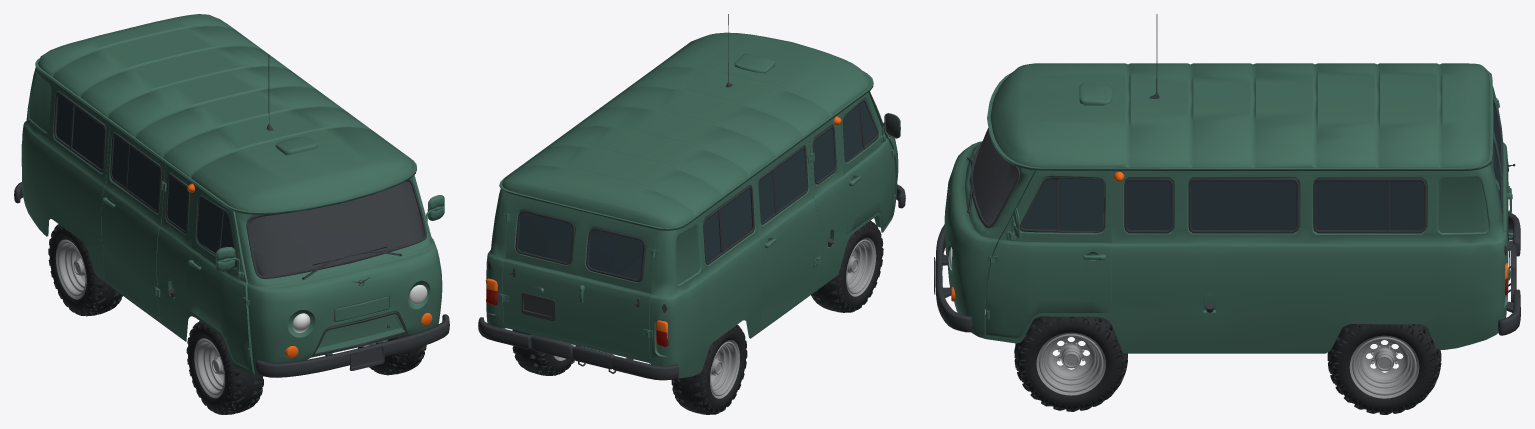
File: uaz3962.glb
The picture shows the model from 3 angles, left to right: view 1: azimuth 30°, elevation 25°; view 2: azimuth 150°, elevation 25°; view 3: azimuth 270°, elevation 25°; orthographic projection. The views are drawn at different scales.
Visible parts, largest first — view 1: chassisbody, chassis_trim, glass, wheel_fr, wheel_rr, wheel_fl, headlights; view 2: chassisbody, glass, chassis_trim, wheel_rr, wheel_fr, wheel_rl; view 3: chassisbody, glass, chassis_trim, wheel_fl, wheel_rl.
Part boxes in pixels (x1,y1,x2,y2): chassisbody: (22,14,444,376); chassis_trim: (14,54,449,377); glass: (56,95,235,264); wheel_fr: (186,321,263,414); wheel_rr: (48,224,122,316); wheel_fl: (358,334,426,375); headlights: (292,285,427,332); chassisbody: (486,32,900,378); glass: (518,102,877,279); chassis_trim: (478,14,905,380); wheel_rr: (671,324,747,414); wheel_fr: (811,220,883,312); wheel_rl: (512,330,576,375); chassisbody: (944,63,1513,353); glass: (1022,105,1500,231); chassis_trim: (934,14,1520,335); wheel_fl: (1014,316,1127,411); wheel_rl: (1327,324,1441,414).
Bounding box in the file's own units: 2.31 × 2.99 × 4.53.
